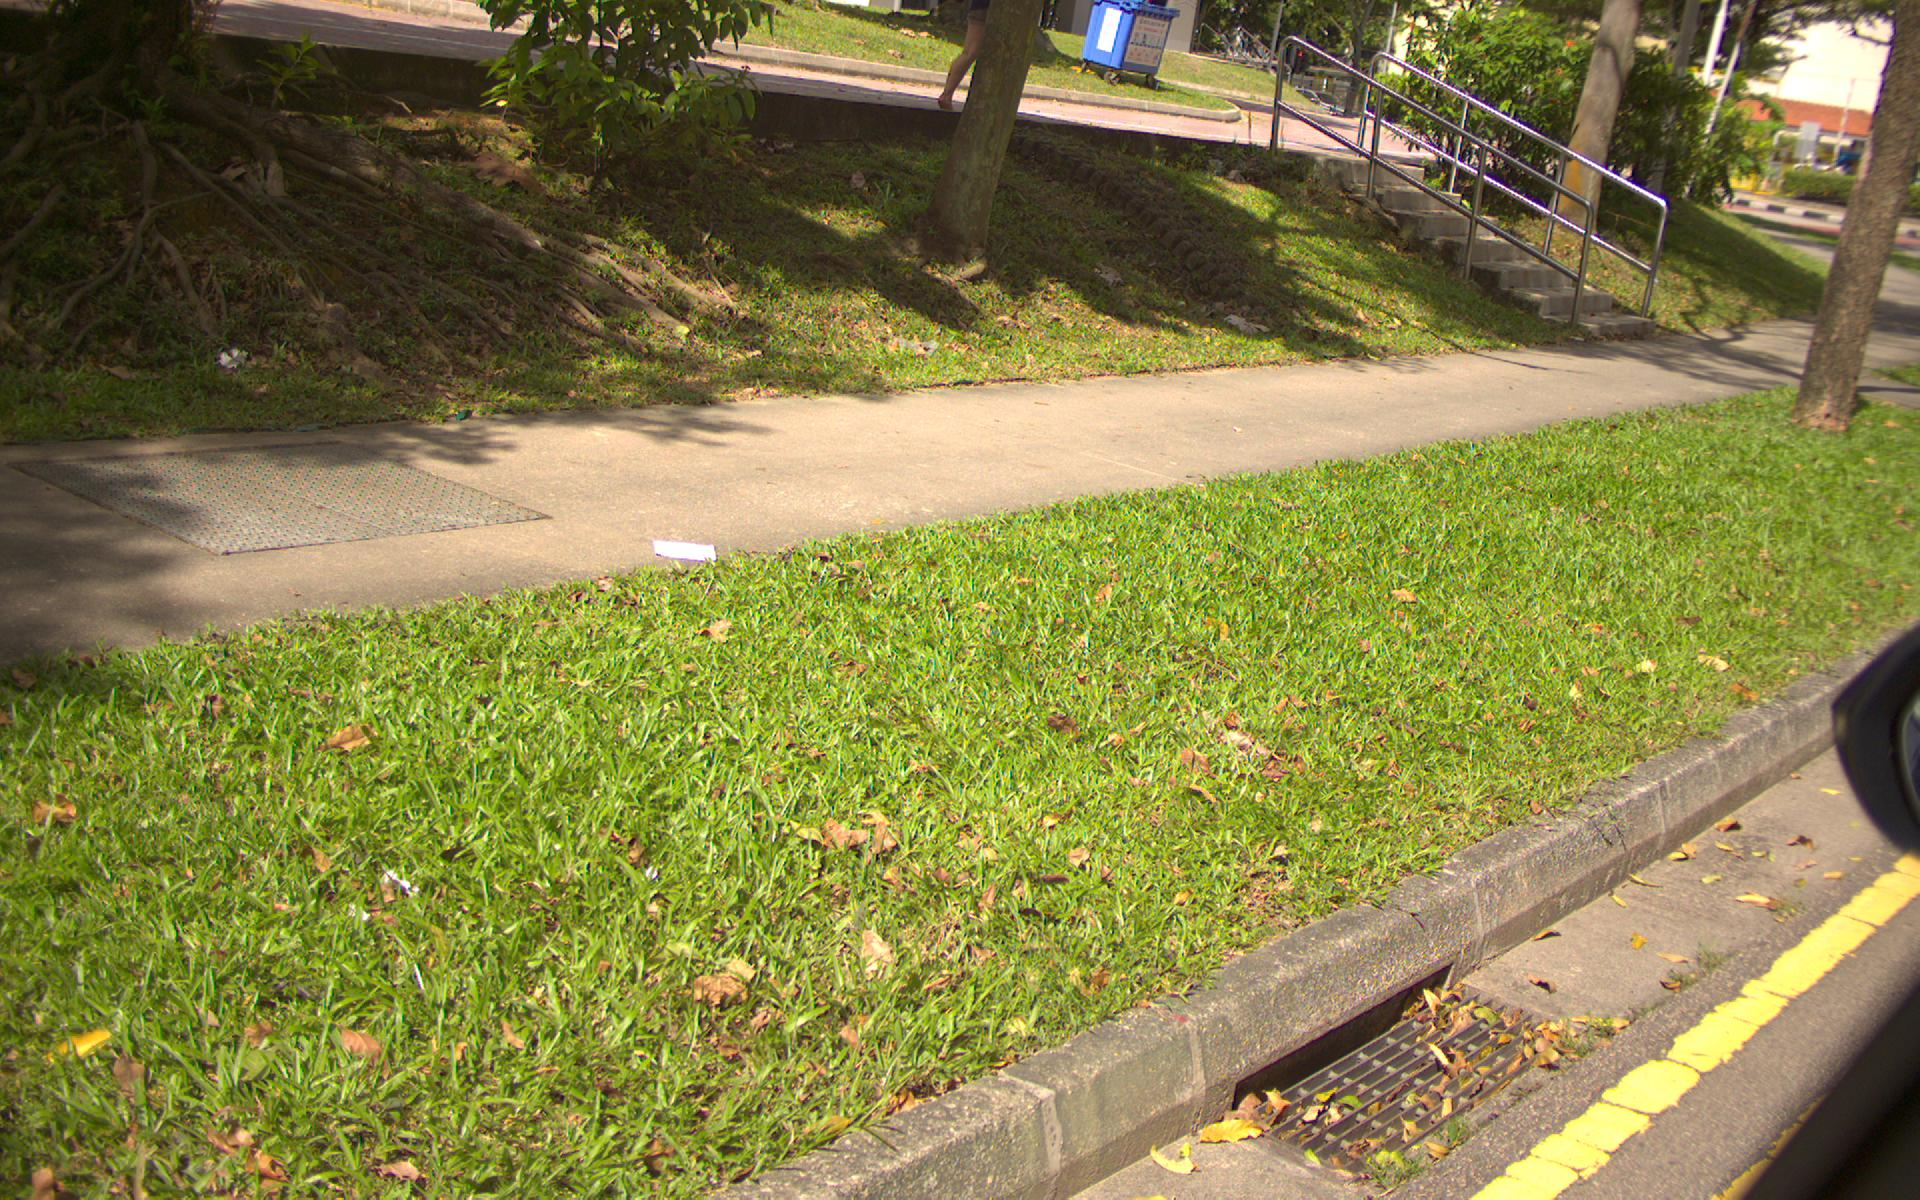curb_grill_medium: (1214, 986, 1598, 1188)
road_curb_low: (1089, 758, 1901, 1192)
road_turf_low: (12, 386, 1906, 1183)
